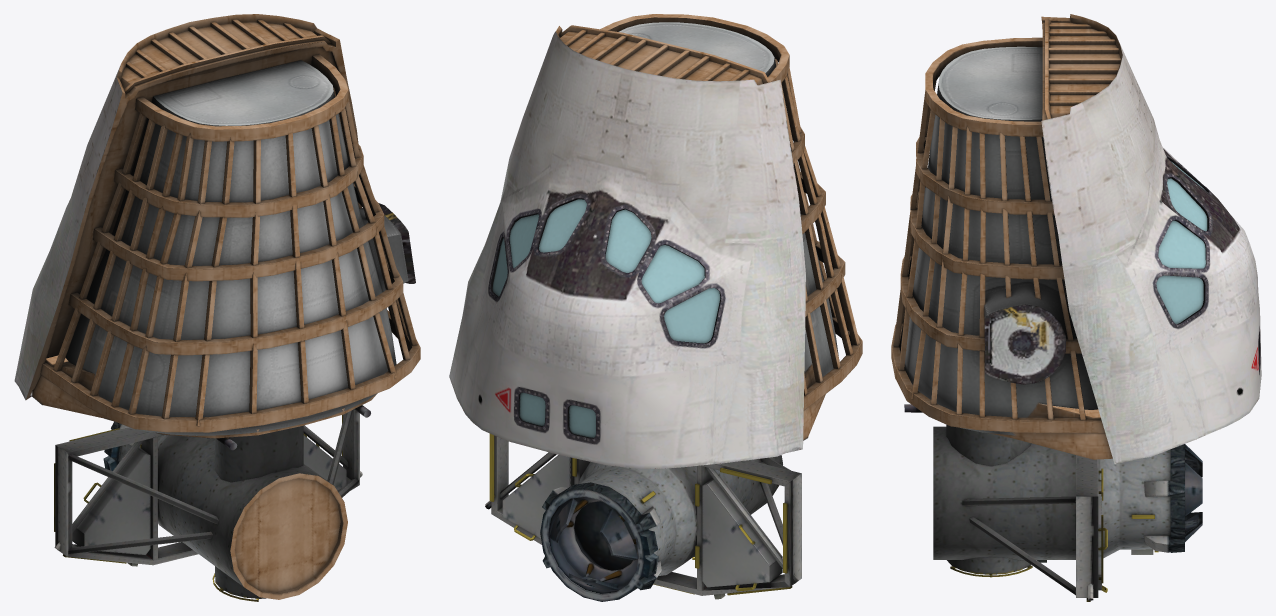
The model's file is crew_compartment.DAE.
3 renders of one model, left to right at view 1: azimuth 30°, elevation 25°; view 2: azimuth 150°, elevation 25°; view 3: azimuth 270°, elevation 25°, orthographic. The views are drawn at different scales.
Visible parts, largest first — view 1: RX_CrewCompartment; view 2: RX_CrewCompartment; view 3: RX_CrewCompartment.
Boxes of the visible parts, left/top/right/bottom form: RX_CrewCompartment: left=14, top=14, right=420, bottom=601; RX_CrewCompartment: left=449, top=14, right=862, bottom=601; RX_CrewCompartment: left=891, top=14, right=1261, bottom=601.
Bounding box in the file's own units: 2.34 × 3.43 × 2.28.
